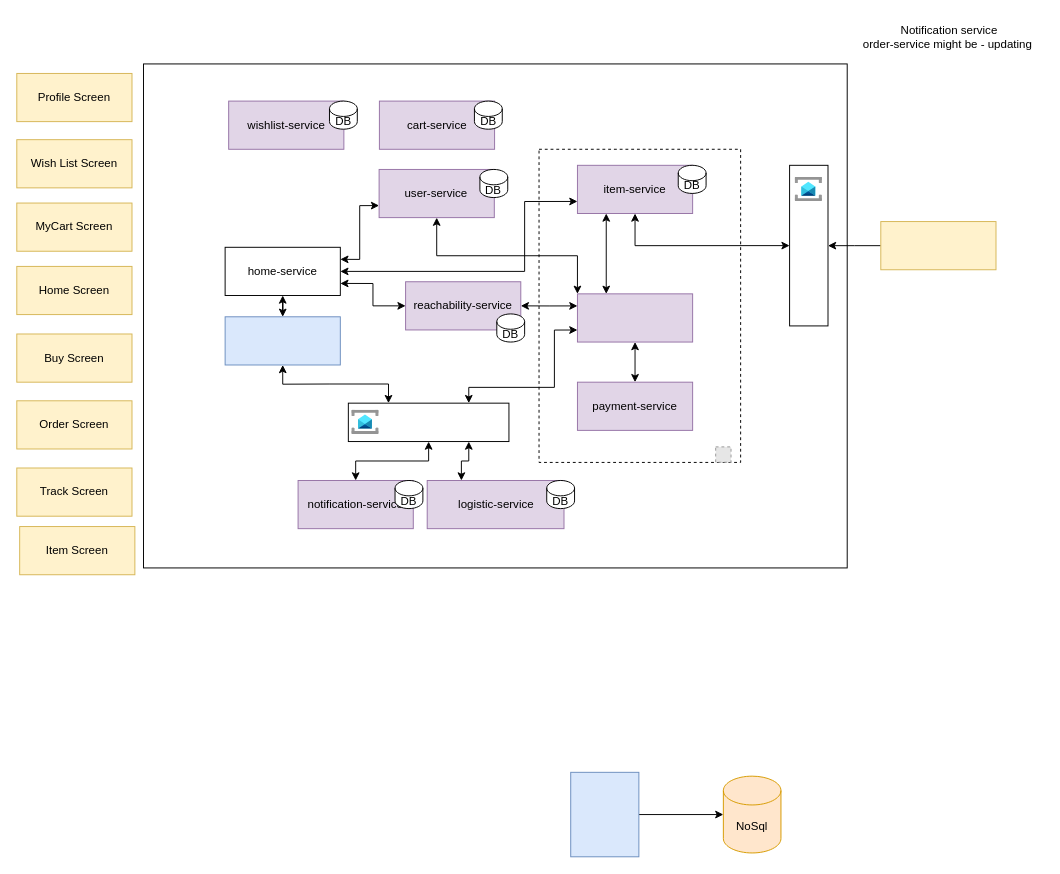
Image size: 1060x874. Some labels were removed from this diagram. Grey dashed boxes stand in for pictures. Each missing label, with the centre of its shape:
Analytics and Recommendation: (x=282, y=340)
buy-service: (x=634, y=317)
Catalog: (x=604, y=814)
inbound-service manual: (x=938, y=245)
